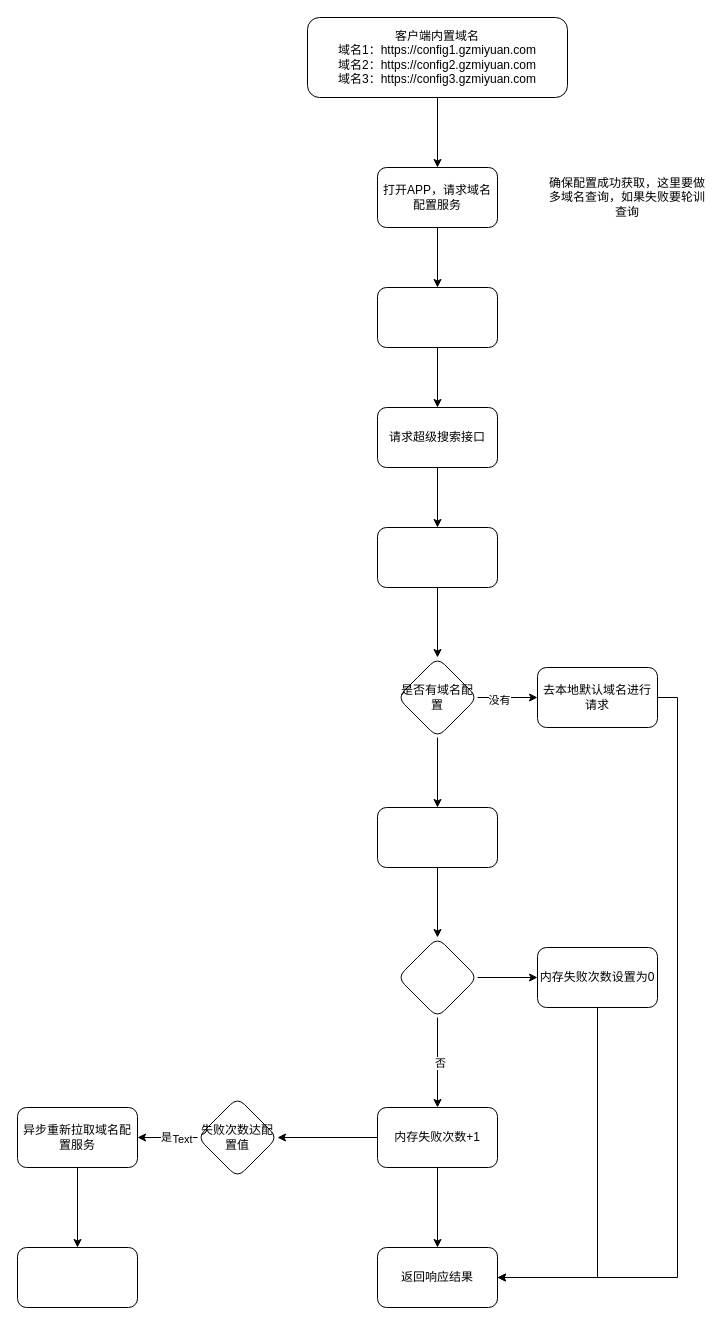
Image size: 725x1325. Some labels were removed from this diagram. The shapes that lost their labels are listed below. From the top down, each one's centre as x and y in pixels, then its label:
(x=437, y=317): 缓存域名配置信息到本地内存，重置请求失败次数为0
(x=437, y=557): 从本地缓存域名配置信息获取域名配置
(x=437, y=837): 随机一个域名请求
(x=437, y=977): 请求是否成功
(x=77, y=1277): 更新缓存域名配置信息到本地内存，重置请求失败次数为0
